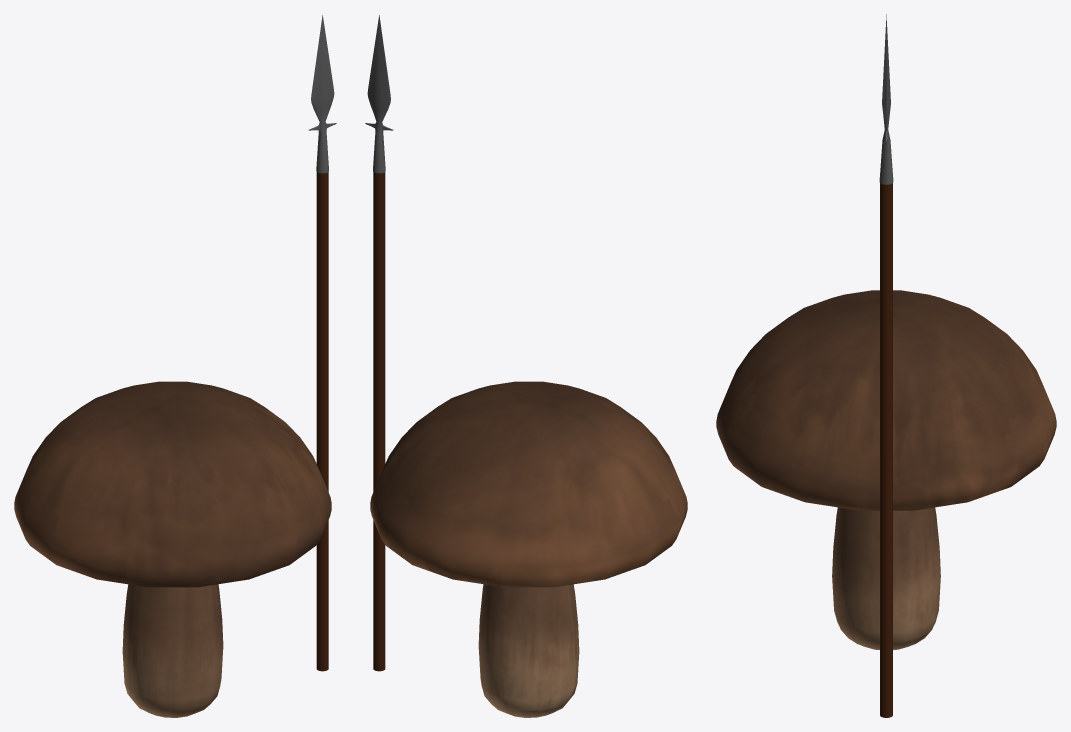
File: Schroom_Warrior_noHelmet_Anime.fbx
The picture shows the model from 3 angles, left to right: view 1: azimuth 30°, elevation 25°; view 2: azimuth 150°, elevation 25°; view 3: azimuth 270°, elevation 25°; orthographic projection. The views are drawn at different scales.
Parts seen in each view (by area): view 1: Warrior.003, Warrior.005; view 2: Warrior.003, Warrior.005; view 3: Warrior.003, Warrior.005.
Boxes of the visible parts, x1,y1,x2,y2 form: Warrior.003: (14, 381, 331, 717); Warrior.005: (308, 15, 336, 671); Warrior.003: (370, 381, 687, 717); Warrior.005: (365, 15, 393, 671); Warrior.003: (716, 290, 1056, 649); Warrior.005: (879, 14, 893, 717).
Size of the model in its own units: 221 by 465 by 203.
